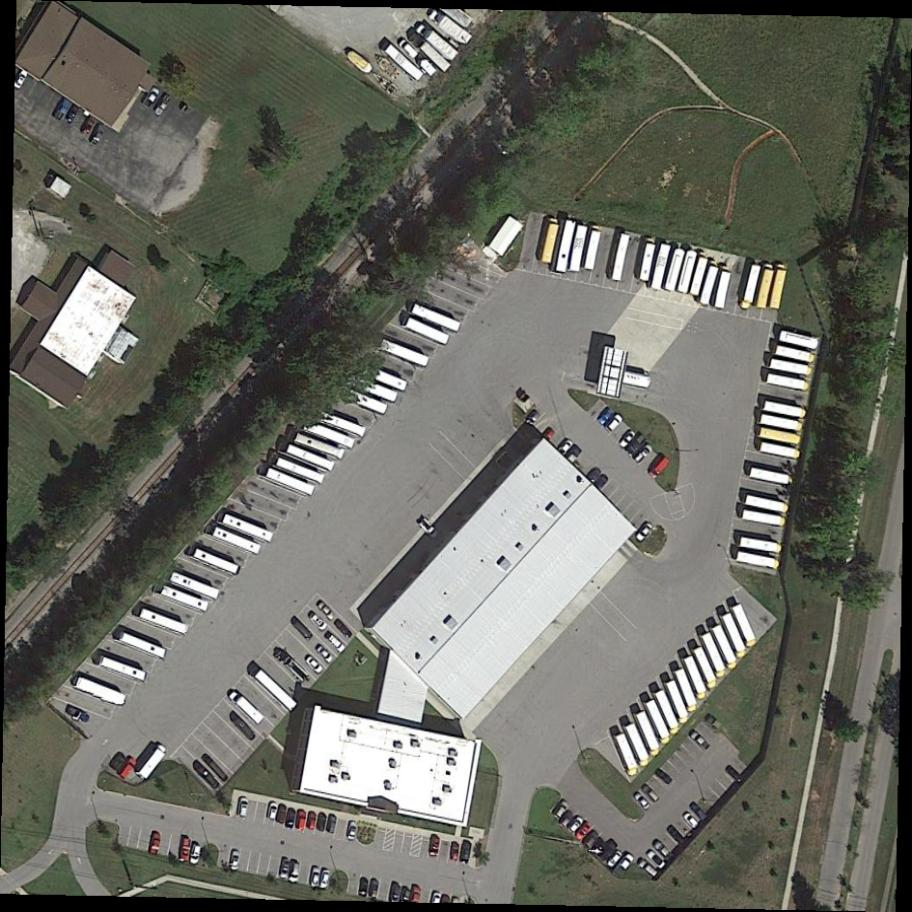large-vehicle: (252, 667, 299, 713), (409, 31, 452, 72), (302, 418, 357, 450), (415, 21, 458, 61), (383, 43, 426, 82), (221, 513, 275, 544), (314, 408, 367, 439), (429, 8, 473, 45), (410, 302, 462, 333), (358, 363, 411, 393), (274, 455, 326, 485), (169, 570, 221, 600), (286, 443, 336, 474), (294, 432, 347, 461), (346, 374, 400, 402), (75, 676, 127, 705), (266, 467, 316, 497), (337, 387, 389, 415), (378, 339, 430, 367), (211, 527, 262, 555), (159, 585, 210, 613), (138, 607, 188, 635), (719, 612, 748, 659), (405, 317, 451, 346), (227, 690, 265, 725), (193, 548, 240, 576), (99, 655, 147, 682), (635, 711, 663, 757), (711, 624, 739, 669), (653, 690, 681, 735), (692, 645, 720, 689), (555, 219, 577, 275), (120, 633, 167, 659), (645, 700, 672, 745), (613, 733, 640, 778), (625, 723, 653, 765), (701, 633, 727, 677), (732, 604, 758, 647), (683, 656, 708, 700), (227, 709, 259, 743), (665, 680, 689, 724), (675, 668, 699, 712), (663, 248, 687, 292), (568, 224, 589, 274), (740, 263, 761, 312), (190, 760, 221, 792), (199, 752, 230, 784), (651, 243, 672, 290), (138, 745, 167, 779), (611, 232, 631, 280), (676, 251, 698, 294), (540, 219, 560, 264), (777, 329, 819, 350), (768, 265, 788, 309), (689, 253, 709, 296), (768, 357, 813, 376), (584, 225, 603, 270), (766, 373, 811, 392), (750, 467, 794, 486), (637, 237, 656, 281), (699, 264, 719, 305), (760, 441, 803, 460), (763, 400, 807, 418), (745, 495, 789, 513), (756, 265, 774, 308), (736, 552, 779, 569), (760, 414, 803, 431), (714, 271, 733, 309), (743, 510, 785, 527), (739, 537, 783, 553), (775, 344, 814, 362), (759, 427, 801, 443)
ship: (371, 51, 403, 83), (344, 47, 378, 77), (369, 68, 401, 98)
small-vehicle: (288, 614, 315, 643), (612, 851, 637, 880), (646, 454, 672, 481), (595, 838, 620, 865), (415, 516, 440, 541), (561, 443, 584, 470), (63, 704, 92, 725), (117, 757, 140, 783), (573, 819, 597, 843), (594, 405, 618, 429), (625, 433, 648, 458), (306, 609, 331, 632), (152, 92, 174, 118), (141, 85, 162, 112), (588, 473, 611, 497), (631, 442, 654, 466), (689, 730, 712, 753), (325, 631, 348, 654), (553, 437, 575, 461), (634, 520, 656, 544), (581, 467, 603, 490), (108, 751, 130, 774), (78, 115, 99, 139), (637, 858, 659, 880), (646, 849, 668, 871), (303, 654, 325, 676), (399, 40, 422, 61), (63, 103, 83, 127), (89, 123, 108, 148), (551, 799, 572, 821), (605, 847, 626, 869), (666, 824, 687, 846), (688, 801, 709, 823), (604, 413, 625, 435), (316, 601, 338, 622), (333, 618, 355, 639), (177, 836, 194, 862), (651, 839, 672, 860), (632, 791, 652, 813), (653, 767, 675, 787), (53, 98, 71, 122), (314, 644, 335, 664), (538, 427, 558, 447), (523, 409, 542, 430), (724, 765, 745, 784), (457, 841, 474, 864), (567, 815, 586, 835), (582, 831, 601, 851), (619, 429, 638, 449), (641, 784, 660, 803), (147, 832, 162, 856), (273, 804, 289, 826), (237, 795, 251, 820), (309, 864, 323, 889), (188, 842, 203, 865), (266, 800, 280, 824), (314, 812, 329, 834), (289, 859, 302, 884), (428, 833, 441, 857), (227, 850, 242, 870), (284, 807, 297, 830), (682, 812, 699, 829), (367, 878, 380, 899), (560, 811, 576, 828), (280, 857, 292, 879), (345, 822, 358, 842), (306, 811, 319, 831), (295, 811, 308, 831), (320, 867, 331, 890), (358, 877, 370, 898), (326, 816, 338, 835), (450, 841, 460, 863)
